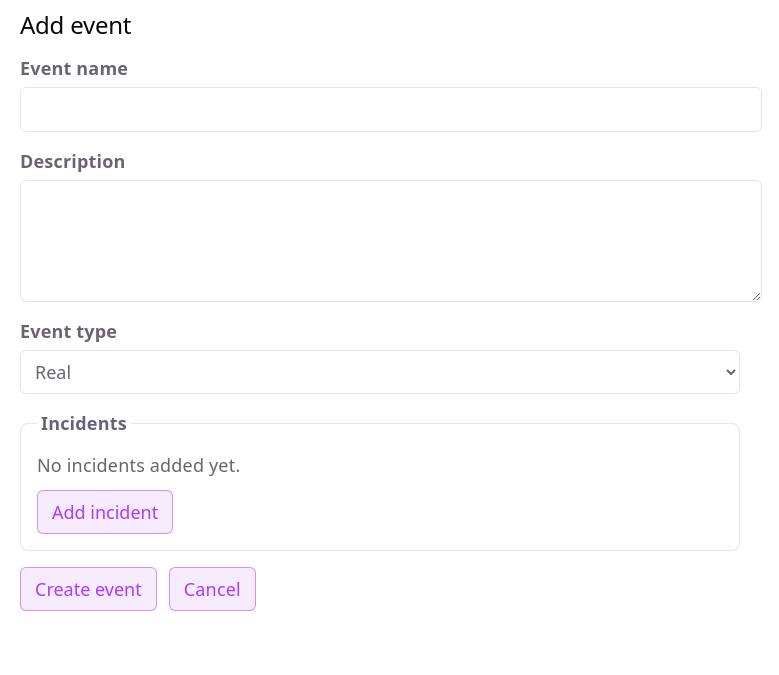
Test: EventForm › requires name and description before submit
Click the button "Create event": (88, 589) left=20, top=567, right=157, bottom=611
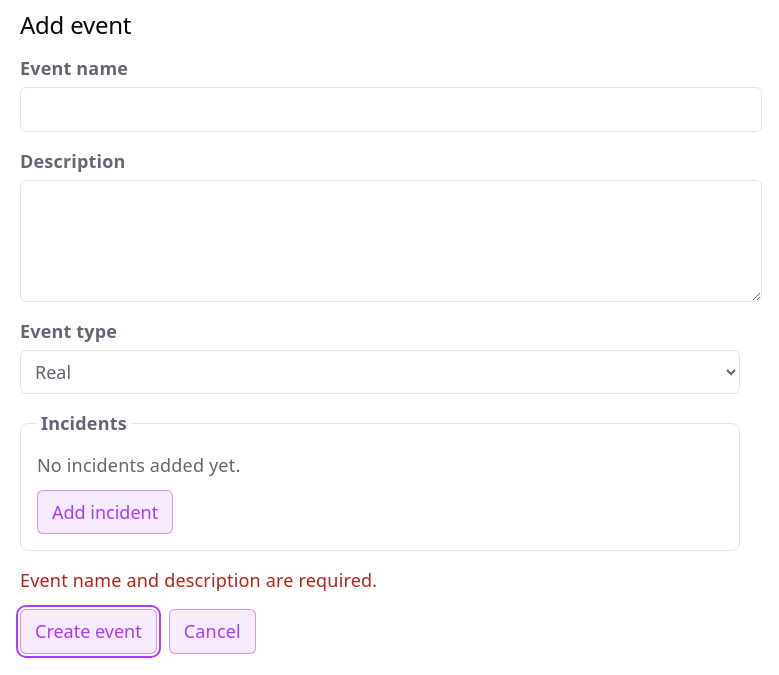
Check: the text "Event name and description are required." is shown, box left=20, top=568, right=377, bottom=592
